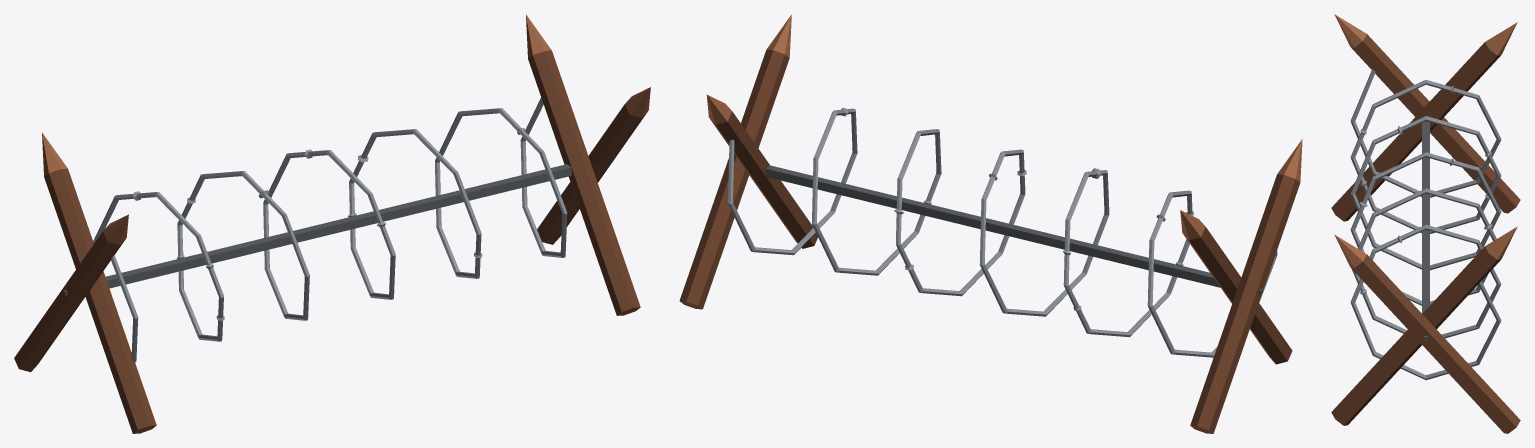
File: SmallFence_01.fbx
3 renders of one model, left to right at view 1: azimuth 30°, elevation 25°; view 2: azimuth 150°, elevation 25°; view 3: azimuth 270°, elevation 25°, orthographic. The views are drawn at different scales.
Visible parts, largest first — view 1: SmallFence_01; view 2: SmallFence_01; view 3: SmallFence_01.
Boxes of the visible parts, x1=… form: SmallFence_01: x1=14, y1=14, x2=650, y2=433; SmallFence_01: x1=679, y1=14, x2=1302, y2=433; SmallFence_01: x1=1331, y1=14, x2=1520, y2=433.
Size of the model in its own units: 264 by 106 by 91.91.
